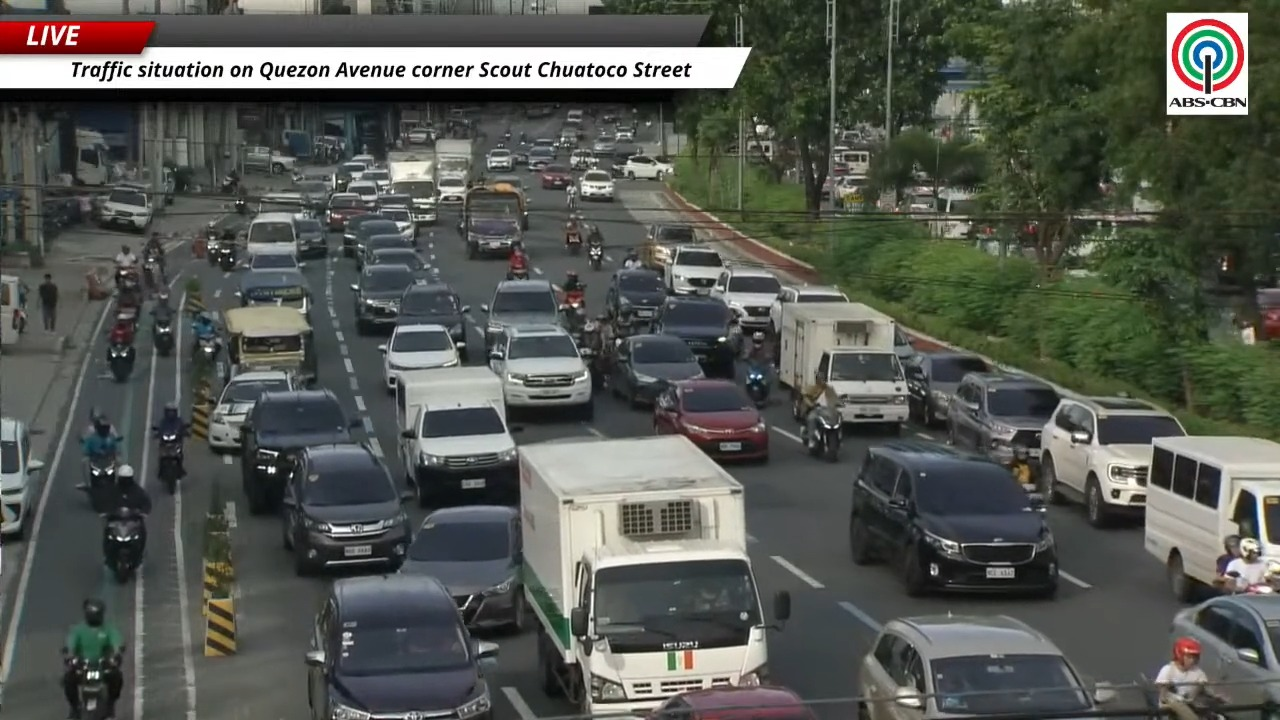car: (849, 440, 1058, 596), (305, 573, 497, 719), (857, 614, 1115, 719), (1040, 397, 1186, 526), (282, 443, 411, 576), (400, 505, 527, 631), (241, 389, 362, 514), (945, 371, 1059, 489), (1170, 594, 1279, 706), (489, 325, 593, 420), (653, 379, 768, 461), (207, 371, 301, 451), (652, 296, 740, 376), (609, 334, 704, 407), (904, 353, 993, 426), (481, 279, 560, 355), (646, 684, 815, 719), (399, 282, 470, 360), (379, 324, 459, 391), (0, 417, 43, 538), (710, 266, 781, 330), (351, 265, 416, 334), (768, 285, 849, 335), (236, 268, 311, 317), (605, 268, 666, 321), (344, 215, 401, 266), (665, 245, 724, 294), (640, 223, 697, 271), (460, 216, 522, 259), (99, 183, 153, 232), (342, 212, 398, 257), (355, 234, 412, 271), (365, 247, 428, 278), (326, 193, 369, 230), (243, 146, 296, 174), (379, 206, 417, 243), (293, 176, 330, 213), (624, 155, 673, 180), (295, 218, 326, 257), (1257, 288, 1279, 341), (247, 250, 304, 270), (579, 170, 614, 201), (333, 162, 367, 192), (612, 142, 641, 176), (347, 177, 378, 208), (539, 164, 572, 189), (379, 190, 413, 214), (894, 325, 916, 362), (360, 168, 391, 194), (438, 176, 466, 204), (528, 146, 557, 172), (351, 154, 380, 177), (486, 148, 513, 170), (570, 149, 598, 170), (406, 127, 434, 144), (557, 128, 579, 149), (592, 136, 615, 156), (525, 104, 555, 118), (565, 109, 584, 127), (599, 108, 620, 124), (531, 137, 554, 151), (614, 126, 634, 142), (513, 150, 528, 166)
motorcycle: (103, 508, 144, 583), (75, 659, 110, 719), (805, 407, 841, 462), (84, 454, 116, 512), (155, 428, 183, 493), (560, 286, 587, 336), (1008, 445, 1034, 486), (108, 344, 135, 382), (745, 365, 769, 407), (193, 335, 219, 365), (153, 320, 174, 356), (143, 257, 164, 293), (205, 226, 221, 266), (506, 252, 528, 279), (1230, 580, 1275, 593), (216, 243, 236, 271), (114, 266, 137, 289), (563, 285, 584, 310), (588, 244, 603, 270), (566, 232, 582, 255), (220, 174, 239, 193), (506, 266, 529, 279), (233, 197, 248, 215)
truck: (519, 435, 790, 715), (395, 366, 518, 506), (777, 302, 908, 430), (387, 150, 438, 223), (463, 182, 528, 229), (74, 127, 113, 185), (434, 139, 473, 180)
